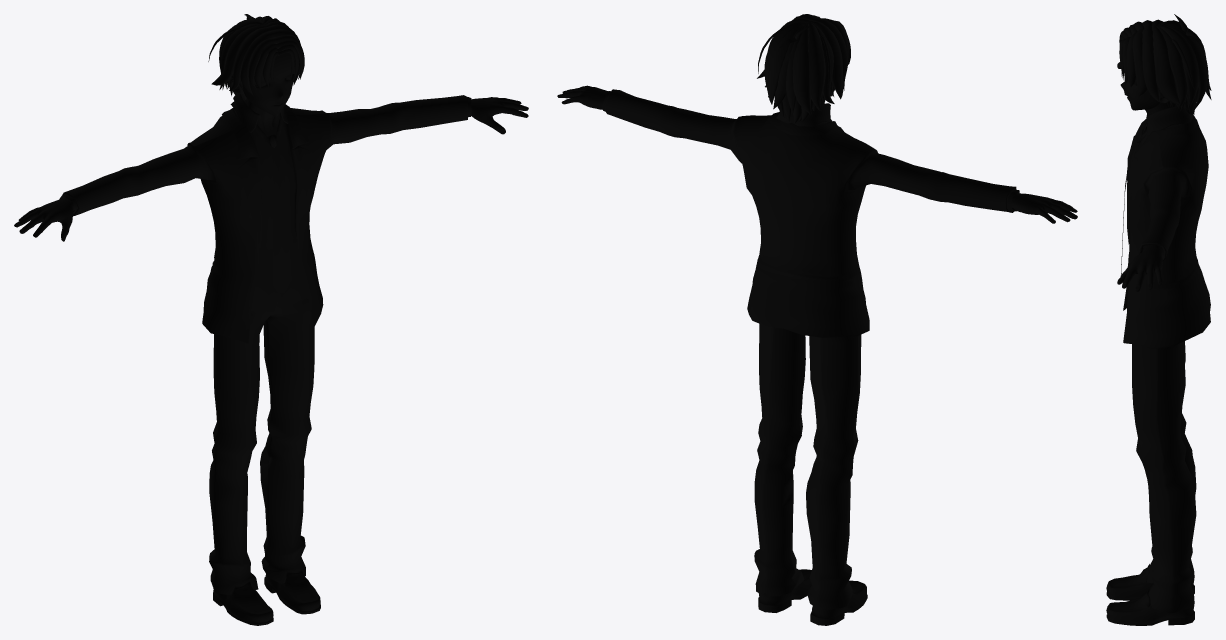
Rendered from Kiyotaka Ayanokoji.obj.
3 views of the same model, side by side, from view 1: azimuth 30°, elevation 25°; view 2: azimuth 150°, elevation 25°; view 3: azimuth 270°, elevation 25° (orthographic).
Visible parts, largest first — view 1: desirefx_me_003, desirefx_me_002; view 2: desirefx_me_003, desirefx_me_002; view 3: desirefx_me_003, desirefx_me_002.
Boxes of the visible parts, x1,y1,x2,y2 form: desirefx_me_003: (14,93,528,625); desirefx_me_002: (208,14,304,136); desirefx_me_003: (557,85,1077,625); desirefx_me_002: (757,14,850,123); desirefx_me_003: (1106,62,1210,625); desirefx_me_002: (1119,14,1211,114).
Size of the model in its own units: 91.46 by 100 by 16.28.
